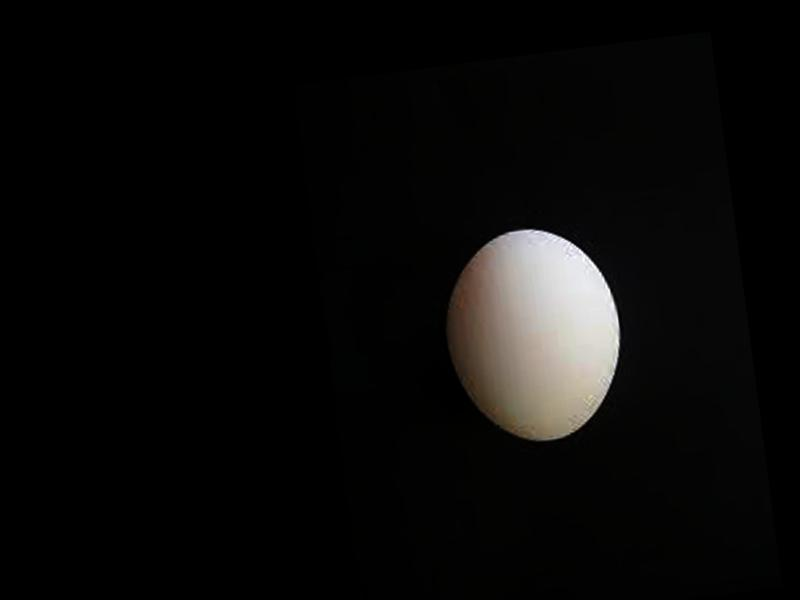Eggs: (436, 223, 633, 453)
